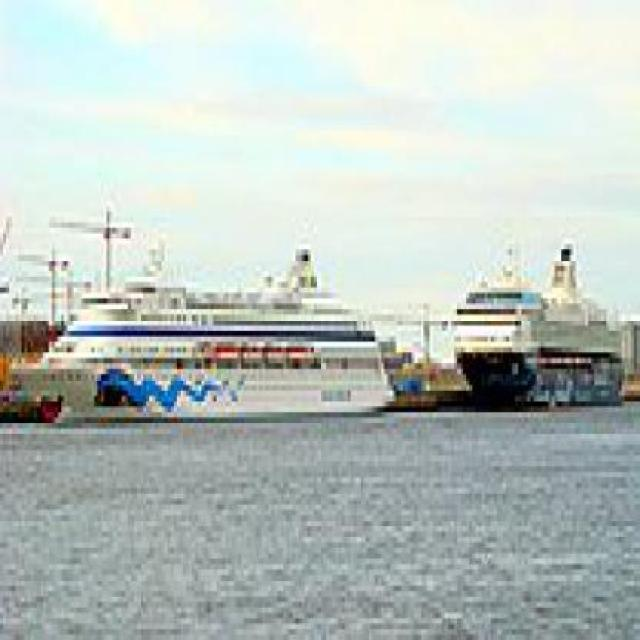cruise: (16, 234, 413, 446)
